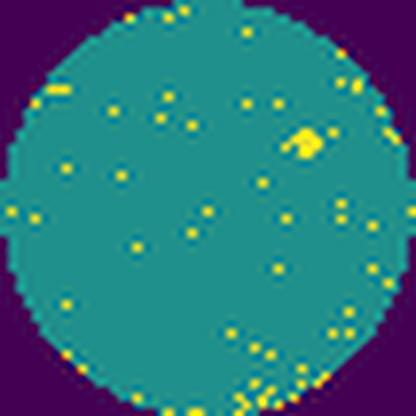Loc: (282, 124, 328, 161)
